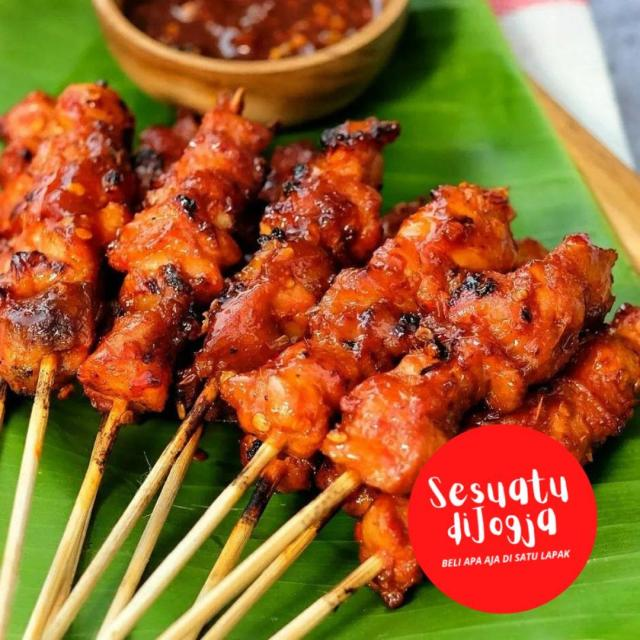Sate: (8, 75, 598, 640)
